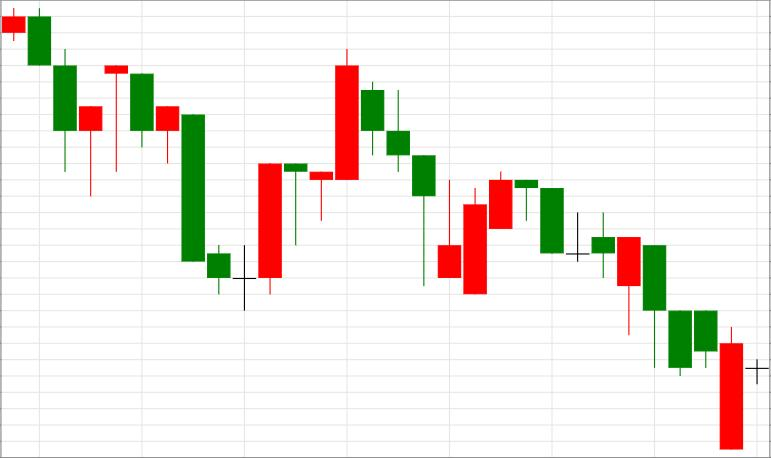inverse_hammer_rise: (336, 50, 460, 287)
morning_star_rise: (105, 65, 282, 310)
